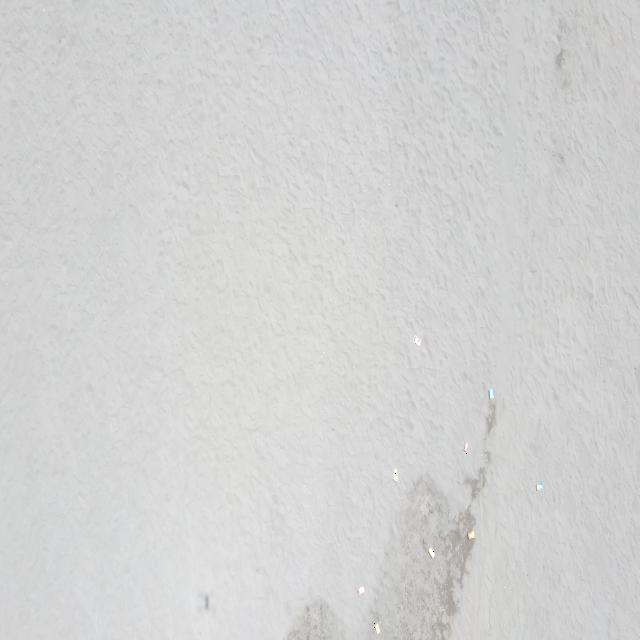Garbage: (200, 592, 208, 609), (535, 480, 543, 491), (467, 528, 475, 539), (373, 622, 380, 632), (487, 387, 492, 400), (357, 586, 364, 595), (413, 335, 420, 344), (392, 468, 397, 480), (427, 547, 433, 557), (464, 440, 467, 452)
